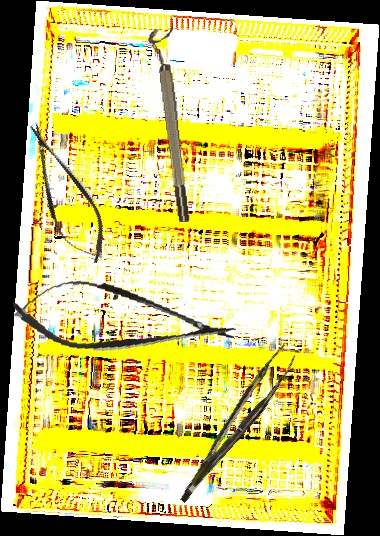Fixation Ring: (146, 27, 194, 224)
Micro Scissor: (8, 271, 240, 368), (11, 114, 119, 273)
Tissue Forceps: (161, 343, 307, 504)
